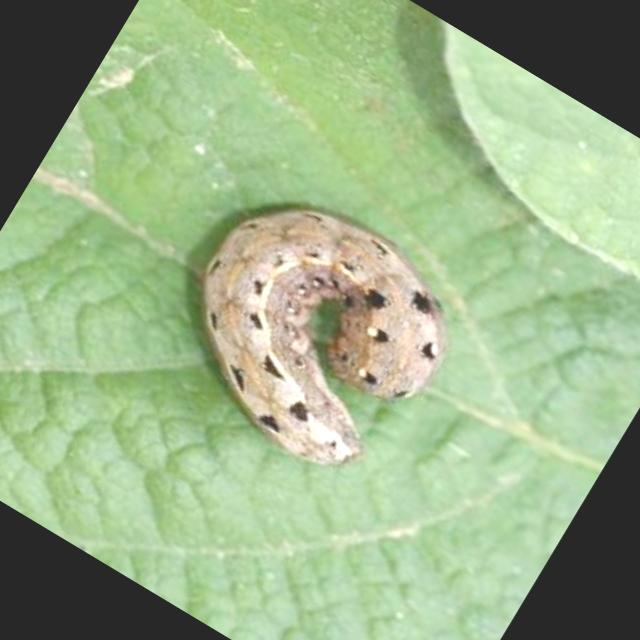Tobacco cutworm: (99, 107, 537, 540)
